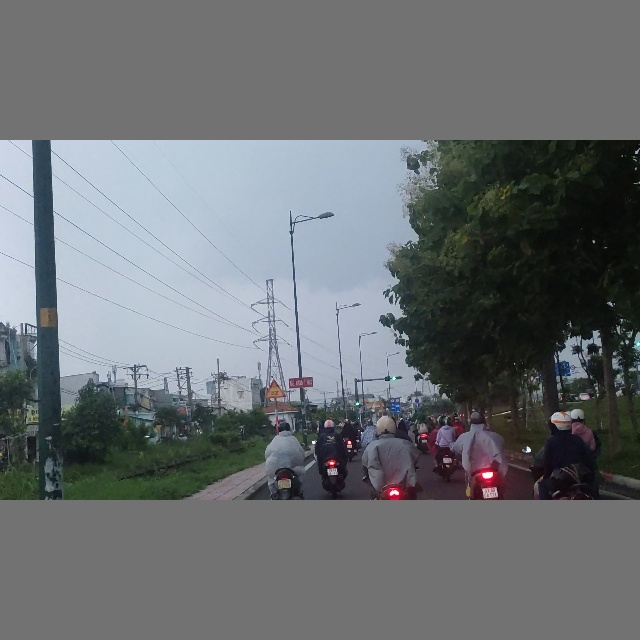W.210: (265, 380, 285, 398)
